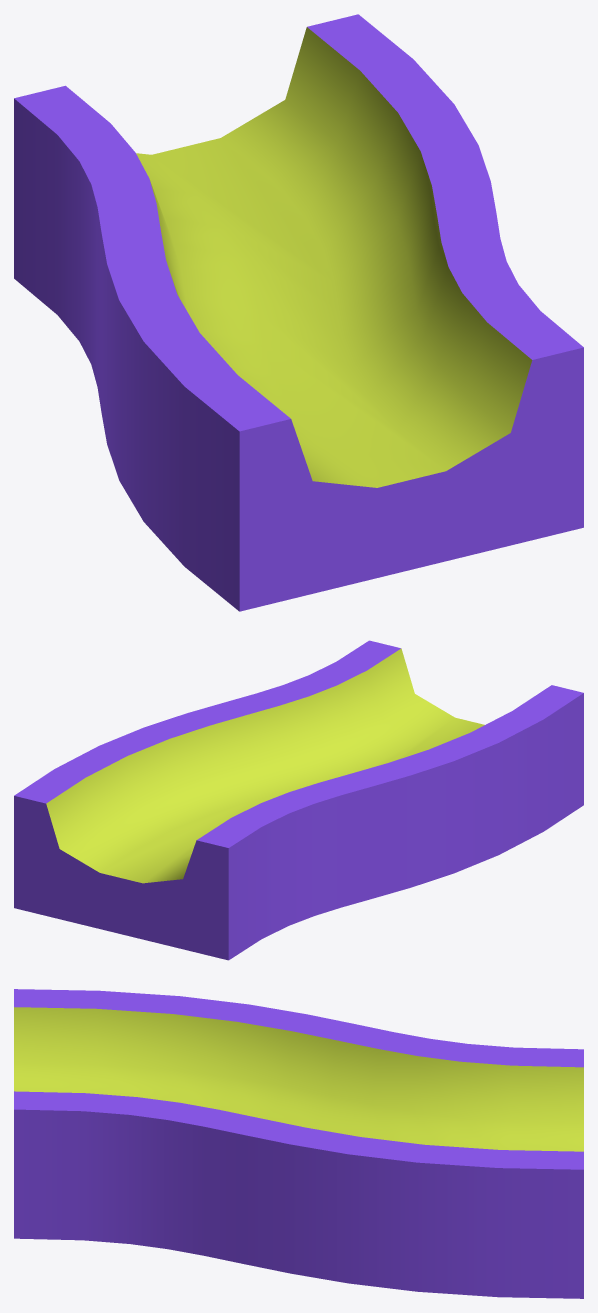
The model's file is s-curve_short_left_B.dae.
3 views of the same model, one above another, from view 1: azimuth 30°, elevation 25°; view 2: azimuth 150°, elevation 25°; view 3: azimuth 270°, elevation 25° (orthographic). The views are drawn at different scales.
Parts seen in each view (by area): view 1: s-curve_short_left_B; view 2: s-curve_short_left_B; view 3: s-curve_short_left_B.
Part boxes in pixels (x1=…): s-curve_short_left_B: x1=14, y1=14, x2=583, y2=611; s-curve_short_left_B: x1=14, y1=640, x2=583, y2=960; s-curve_short_left_B: x1=14, y1=989, x2=583, y2=1298.
Bounding box in the file's own units: 1.5 × 0.5 × 2.
